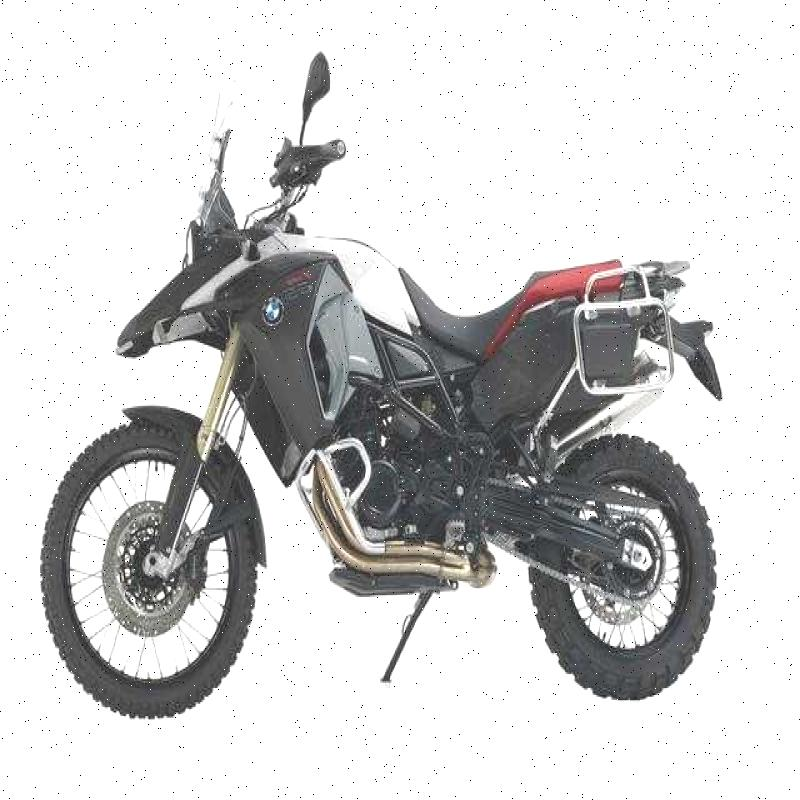bike: (37, 36, 733, 749)
